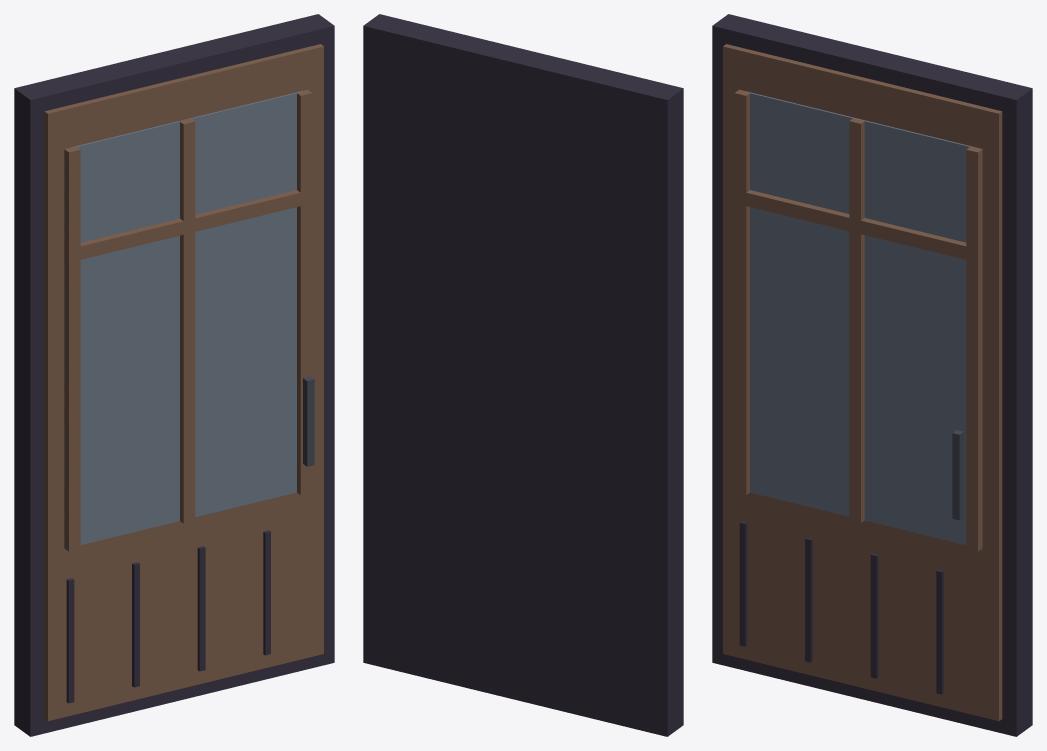
The model's file is SM_Cafe_Door_130x260.fbx.
3 views of the same model, side by side, from view 1: azimuth 30°, elevation 25°; view 2: azimuth 150°, elevation 25°; view 3: azimuth 330°, elevation 25° (orthographic).
Visible parts, largest first — view 1: SM_Cafe_Door_130x260; view 2: SM_Cafe_Door_130x260; view 3: SM_Cafe_Door_130x260.
Boxes of the visible parts, x1,y1,x2,y2 form: SM_Cafe_Door_130x260: (14,14,334,736); SM_Cafe_Door_130x260: (363,14,683,736); SM_Cafe_Door_130x260: (712,14,1032,736).
Size of the model in its own units: 1.3 by 0.256 by 2.6.
